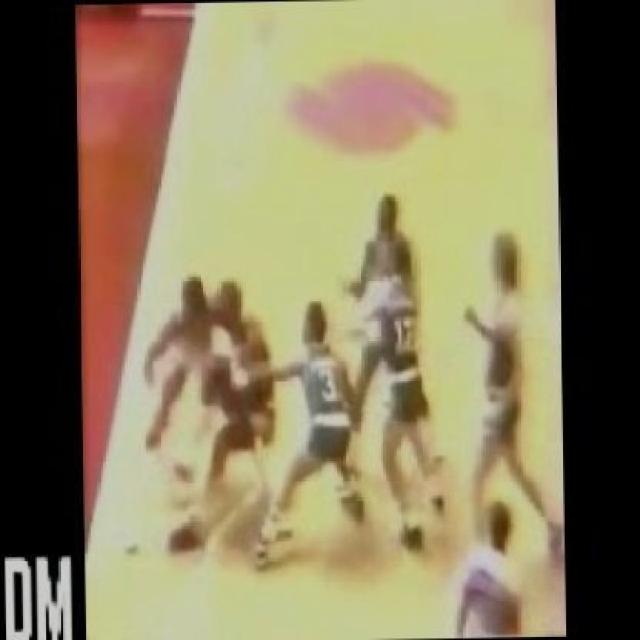fight: (124, 272, 278, 480)
non-fight: (242, 297, 368, 571), (437, 226, 538, 554), (344, 256, 445, 554), (338, 184, 432, 426), (438, 498, 528, 640)
